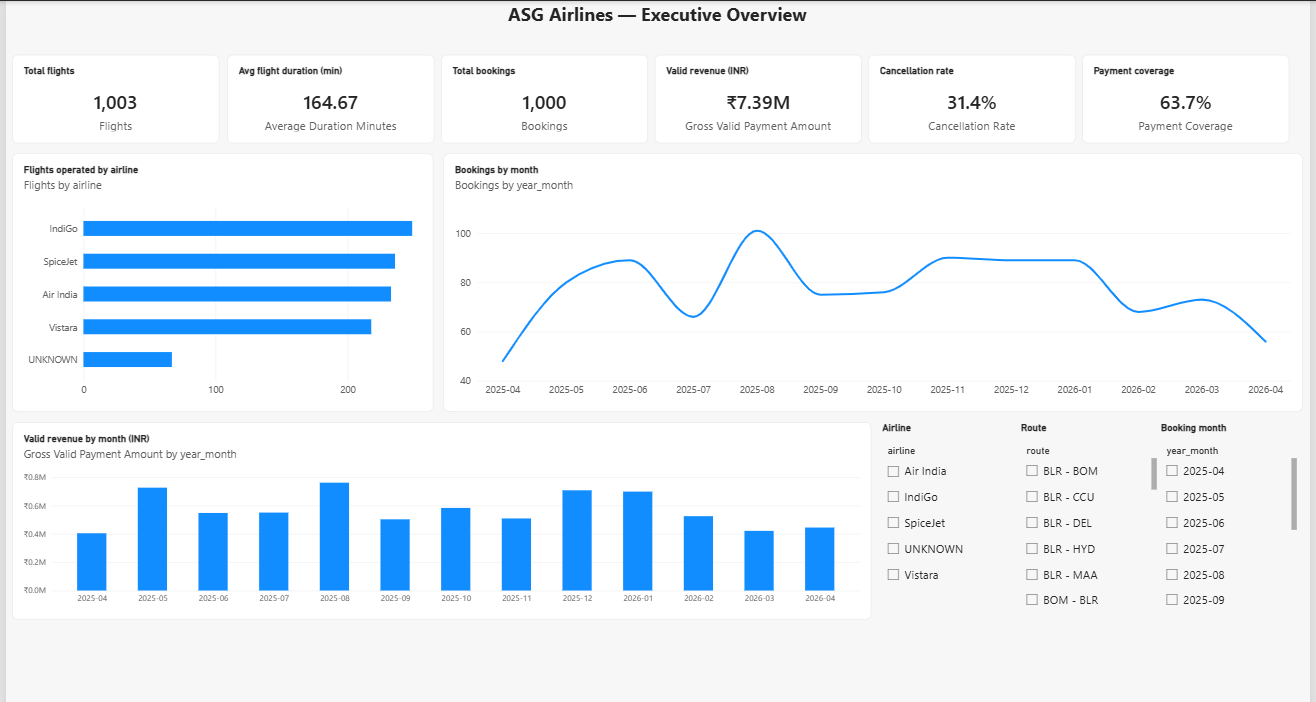

This screenshot's page, from the dashboard's own definition file:
{"tool":"powerbi","page":{"name":"Executive Overview","canvas":[1920,1080],"ordinal":0},"visuals":[{"type":"textbox","box":[10,0,1900,70],"z":0},{"type":"card","title":"Total flights","fields":{"Values":["_Measures.Flights"]},"box":[10,80,305,130],"z":100},{"type":"card","title":"Avg flight duration (min)","fields":{"Values":["_Measures.Average Duration Minutes"]},"box":[325,80,305,130],"z":101},{"type":"card","title":"Total bookings","fields":{"Values":["_Measures.Bookings"]},"box":[640,80,305,130],"z":102},{"type":"card","title":"Valid revenue (INR)","fields":{"Values":["_Measures.Gross Valid Payment Amount"]},"box":[955,80,305,130],"z":103},{"type":"card","title":"Cancellation rate","fields":{"Values":["_Measures.Cancellation Rate"]},"box":[1270,80,305,130],"z":104},{"type":"card","title":"Payment coverage","fields":{"Values":["_Measures.Payment Coverage"]},"box":[1585,80,305,130],"z":105},{"type":"clusteredBarChart","title":"Flights operated by airline","fields":{"Category":["dim_airline.airline"],"Y":["_Measures.Flights"]},"box":[10,225,620,380],"z":200},{"type":"lineChart","title":"Bookings by month","fields":{"Category":["dim_booking_date.year_month"],"Y":["_Measures.Bookings"]},"box":[645,225,1265,380],"z":210},{"type":"clusteredColumnChart","title":"Valid revenue by month (INR)","fields":{"Category":["dim_booking_date.year_month"],"Y":["_Measures.Gross Valid Payment Amount"]},"box":[10,620,1265,290],"z":220},{"type":"slicer","title":"Airline","fields":{"Values":["dim_airline.airline"]},"box":[1290,620,200,290],"z":300},{"type":"slicer","title":"Route","fields":{"Values":["dim_route.route"]},"box":[1495,620,200,290],"z":301},{"type":"slicer","title":"Booking month","fields":{"Values":["dim_booking_date.year_month"]},"box":[1700,620,200,290],"z":302}]}

Visuals, with their boxes on the page's 1920x1080 design canvas (x1, y1, x2, y2). These are canvas units, not pixel positions in the 1316x702 screenshot, which may show the page scaled, cropped or inside an application window:
textbox: (x1=10, y1=0, x2=1910, y2=70)
"Total flights" card: (x1=10, y1=80, x2=315, y2=210)
"Avg flight duration (min)" card: (x1=325, y1=80, x2=630, y2=210)
"Total bookings" card: (x1=640, y1=80, x2=945, y2=210)
"Valid revenue (INR)" card: (x1=955, y1=80, x2=1260, y2=210)
"Cancellation rate" card: (x1=1270, y1=80, x2=1575, y2=210)
"Payment coverage" card: (x1=1585, y1=80, x2=1890, y2=210)
"Flights operated by airline" clusteredBarChart: (x1=10, y1=225, x2=630, y2=605)
"Bookings by month" lineChart: (x1=645, y1=225, x2=1910, y2=605)
"Valid revenue by month (INR)" clusteredColumnChart: (x1=10, y1=620, x2=1275, y2=910)
"Airline" slicer: (x1=1290, y1=620, x2=1490, y2=910)
"Route" slicer: (x1=1495, y1=620, x2=1695, y2=910)
"Booking month" slicer: (x1=1700, y1=620, x2=1900, y2=910)
